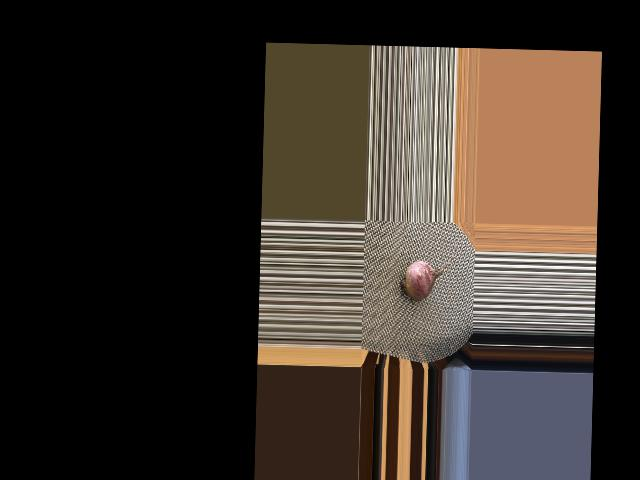beet: (399, 242, 456, 302)
